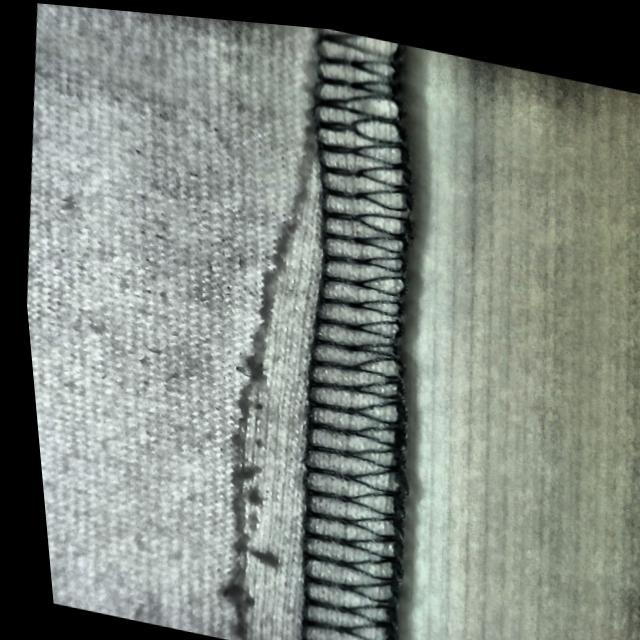seam: (125, 110, 492, 640)
